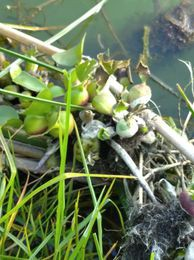water_hyacinth: (0, 37, 193, 175)
